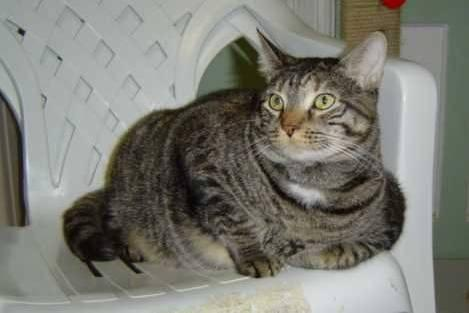cat: (63, 31, 404, 277)
